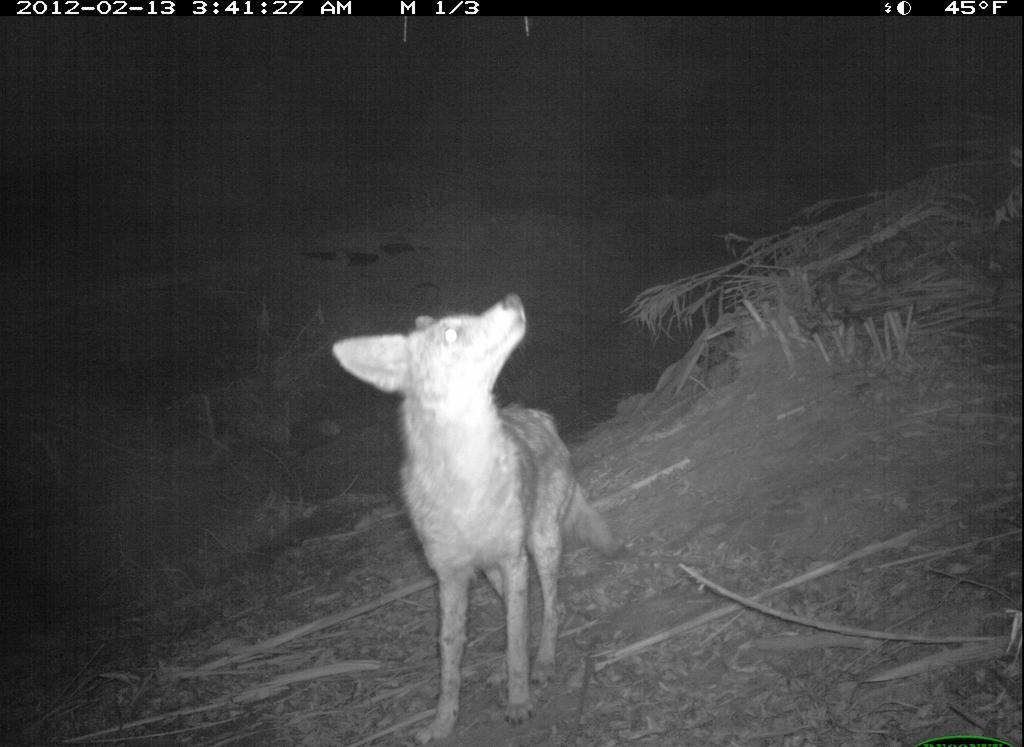coyote: (322, 289, 625, 740)
